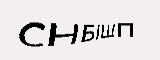Ж: (25, 12, 44, 35)
К: (86, 3, 116, 30)
Л: (47, 11, 60, 33)
С: (63, 2, 86, 35)
Ф: (117, 8, 139, 34)
